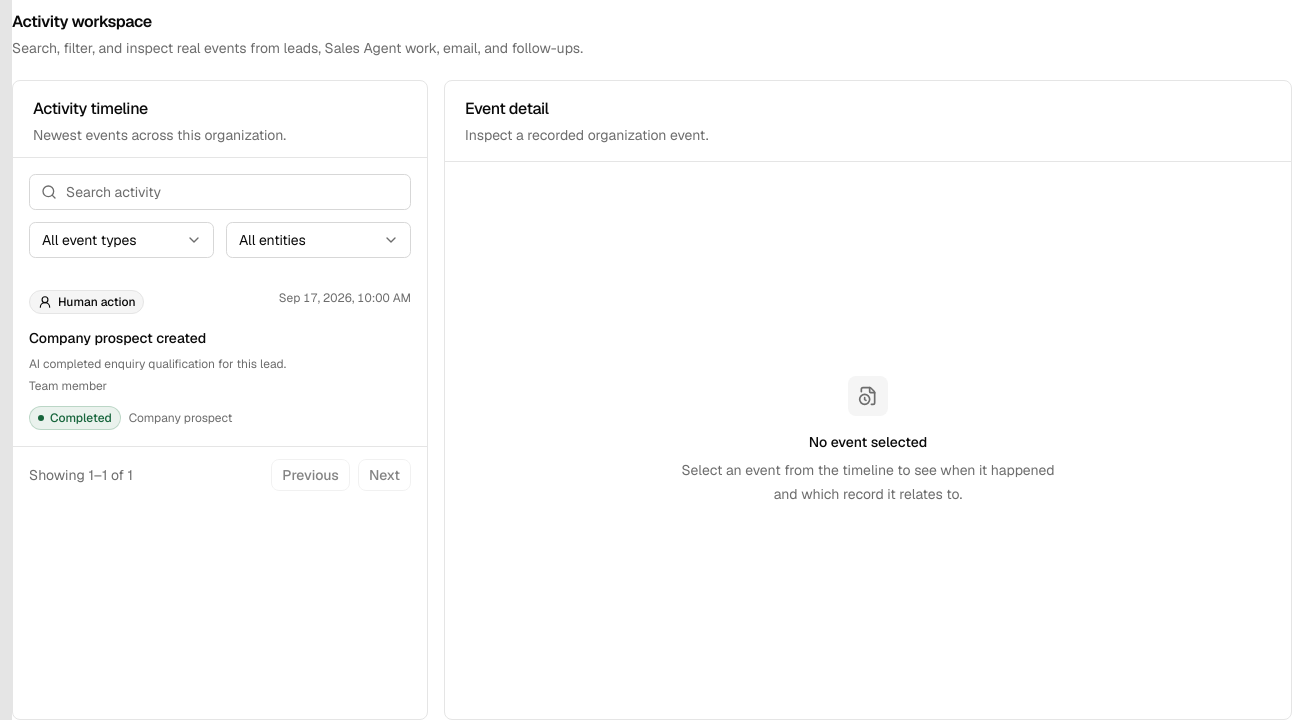
it: Activity page › shows no destination link for events without one and labels company prospects
The image size is (1292, 720).
(page scrolled)
Step 1. Click the button "Company prospect created" → (220, 360), box 13,274 -> 427,446
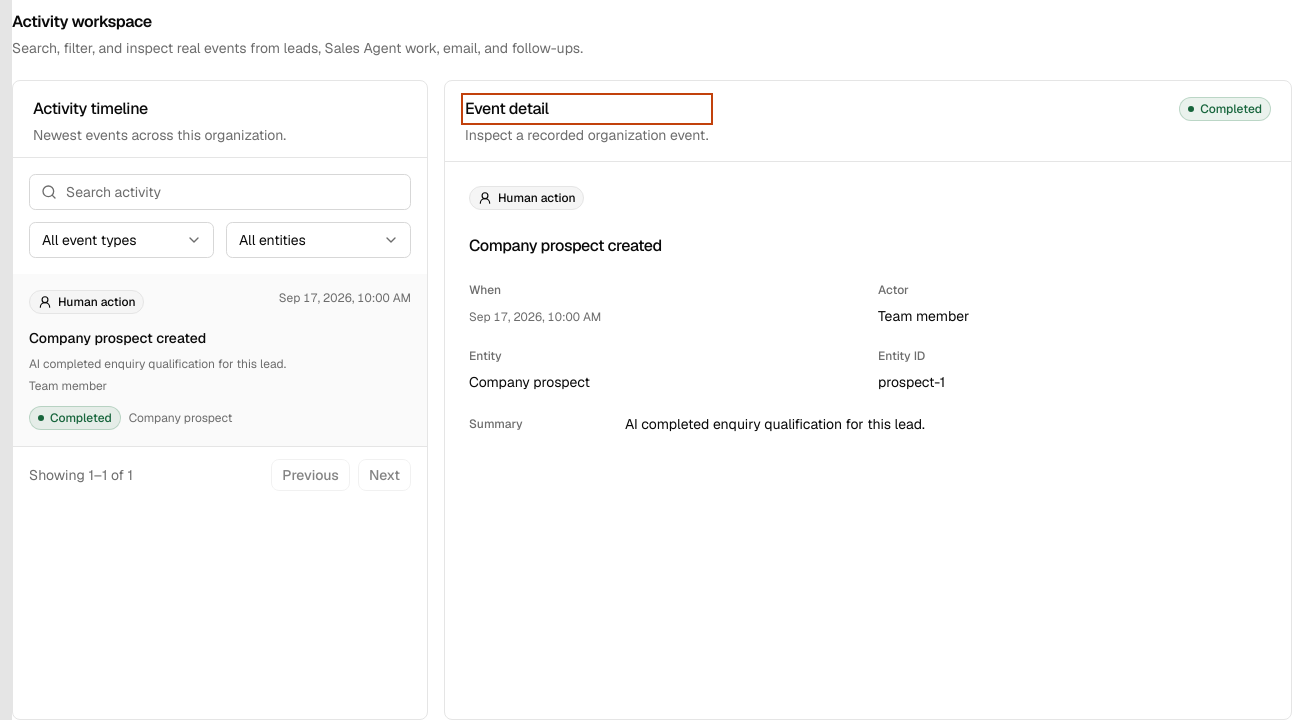
Result: the text "Company prospect" next to "prospect-1" is shown at 469,373 -> 590,391
